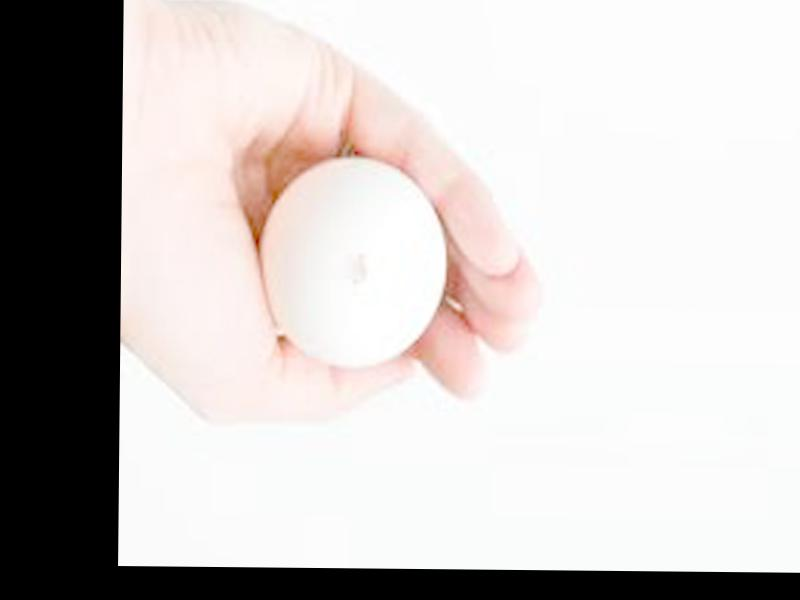Eggs: (262, 160, 447, 362)
